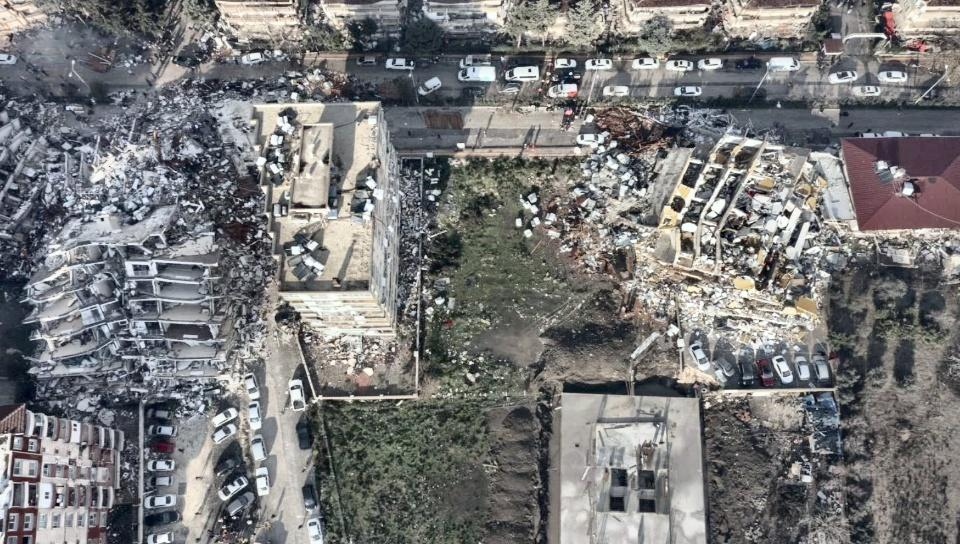kapali: (143, 146, 239, 433), (232, 145, 303, 372), (138, 56, 452, 97), (543, 107, 840, 147), (0, 100, 256, 144)
